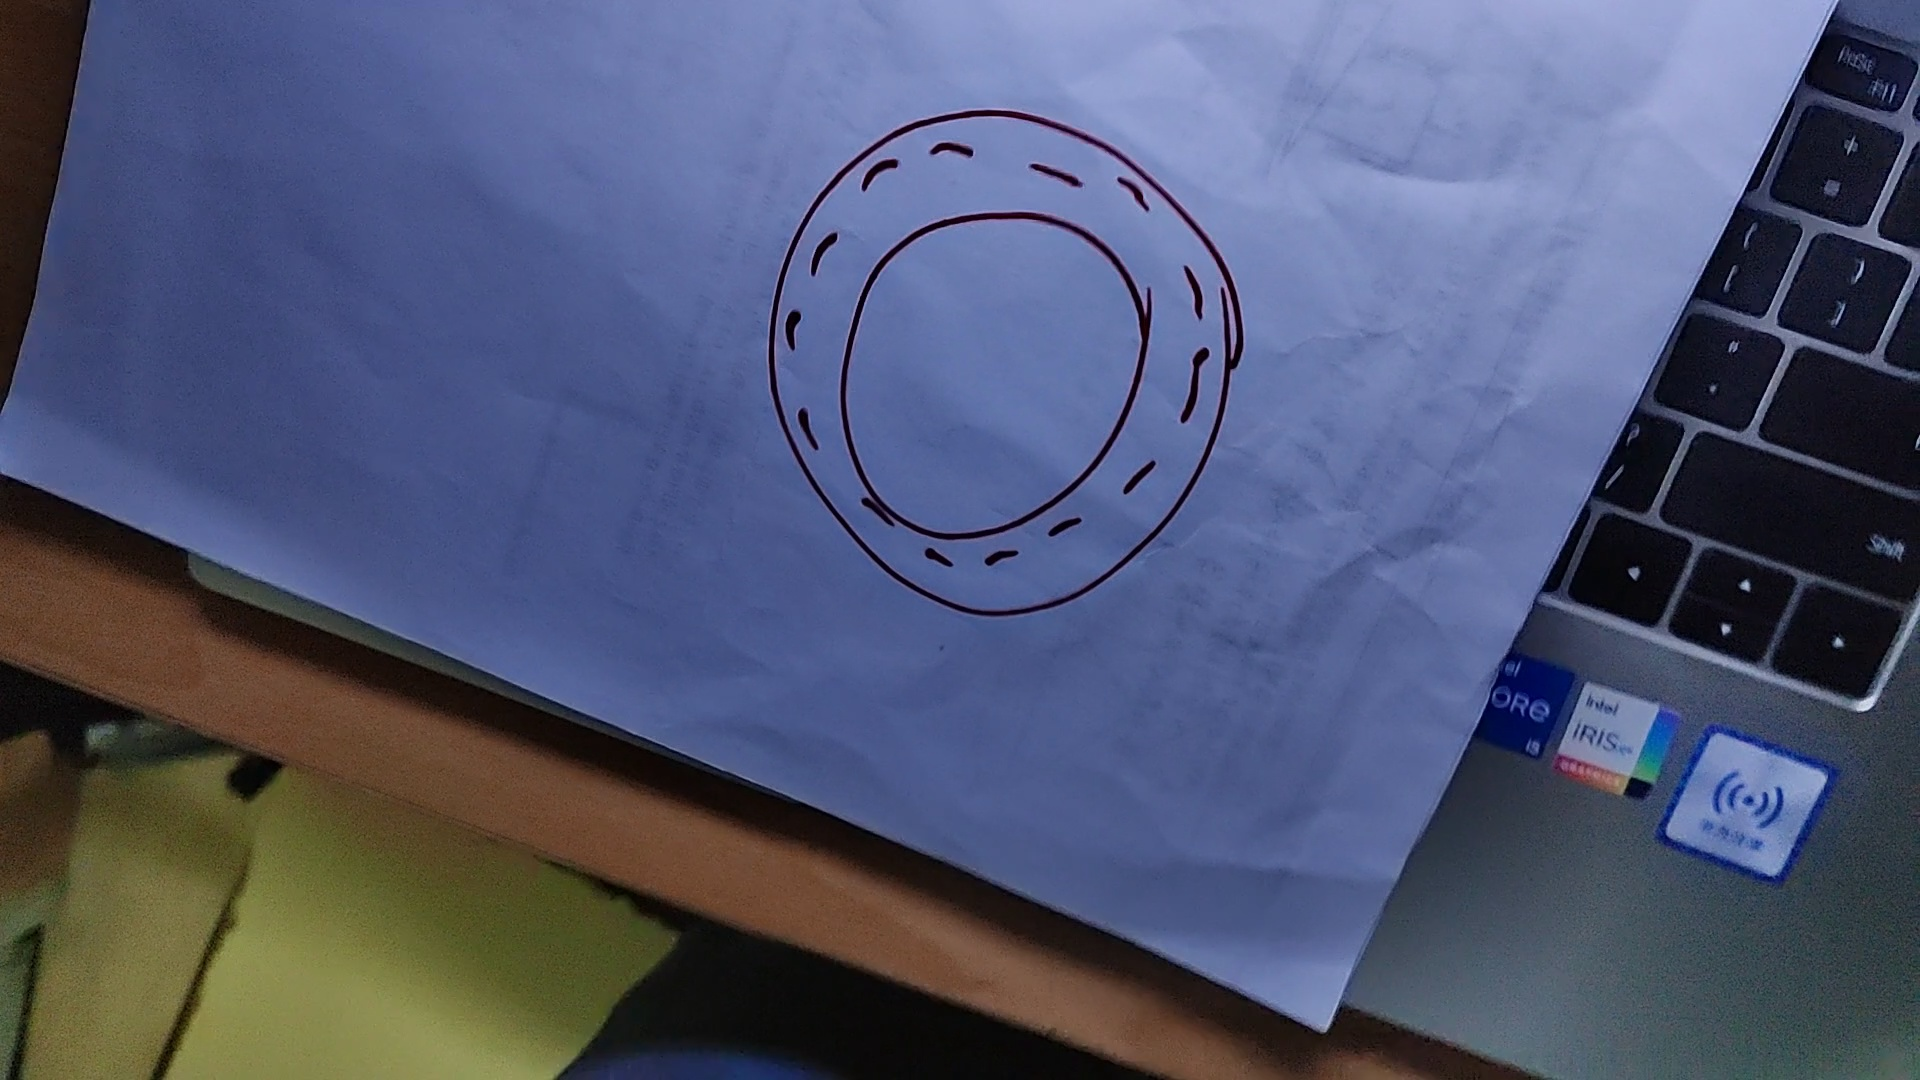circle: (767, 109, 1247, 617)
